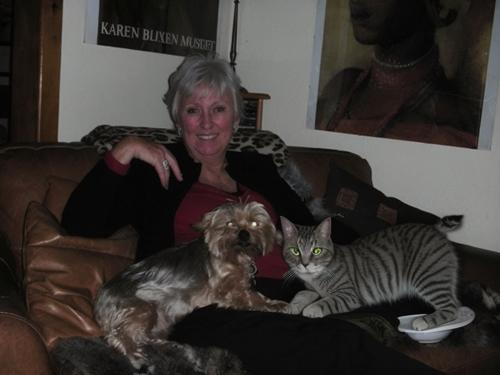cat: (280, 215, 464, 330)
dog: (93, 200, 295, 369)
person: (60, 58, 445, 374)
person/hand: (125, 136, 183, 189)
person/head: (167, 54, 241, 155)
sofa: (2, 142, 500, 373)
